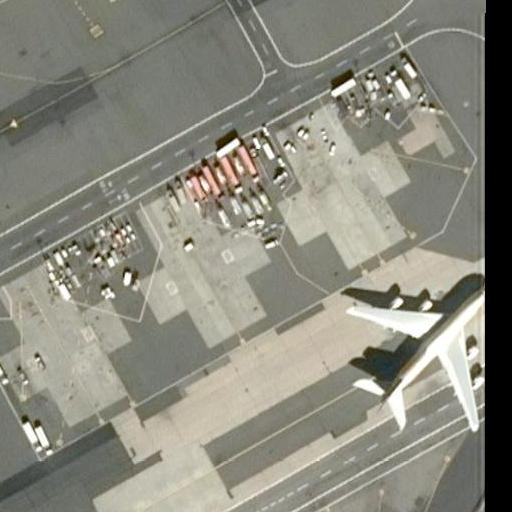Aircraft: (340, 264, 491, 435)
